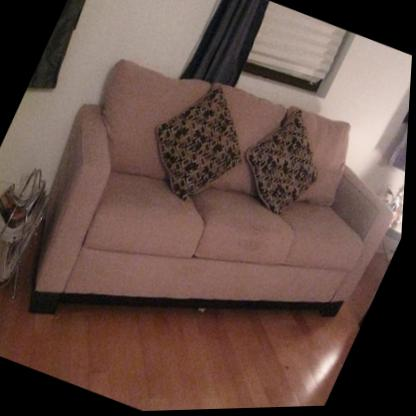Sofa: (0, 22, 415, 416)
